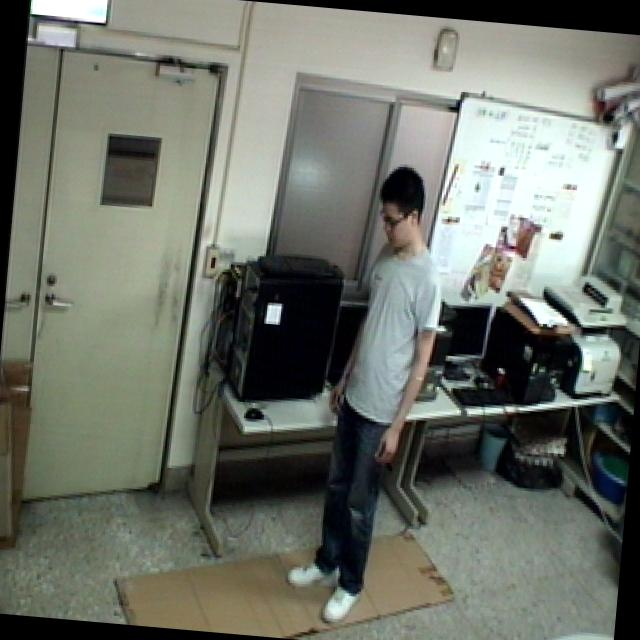stand: (278, 152, 458, 637)
